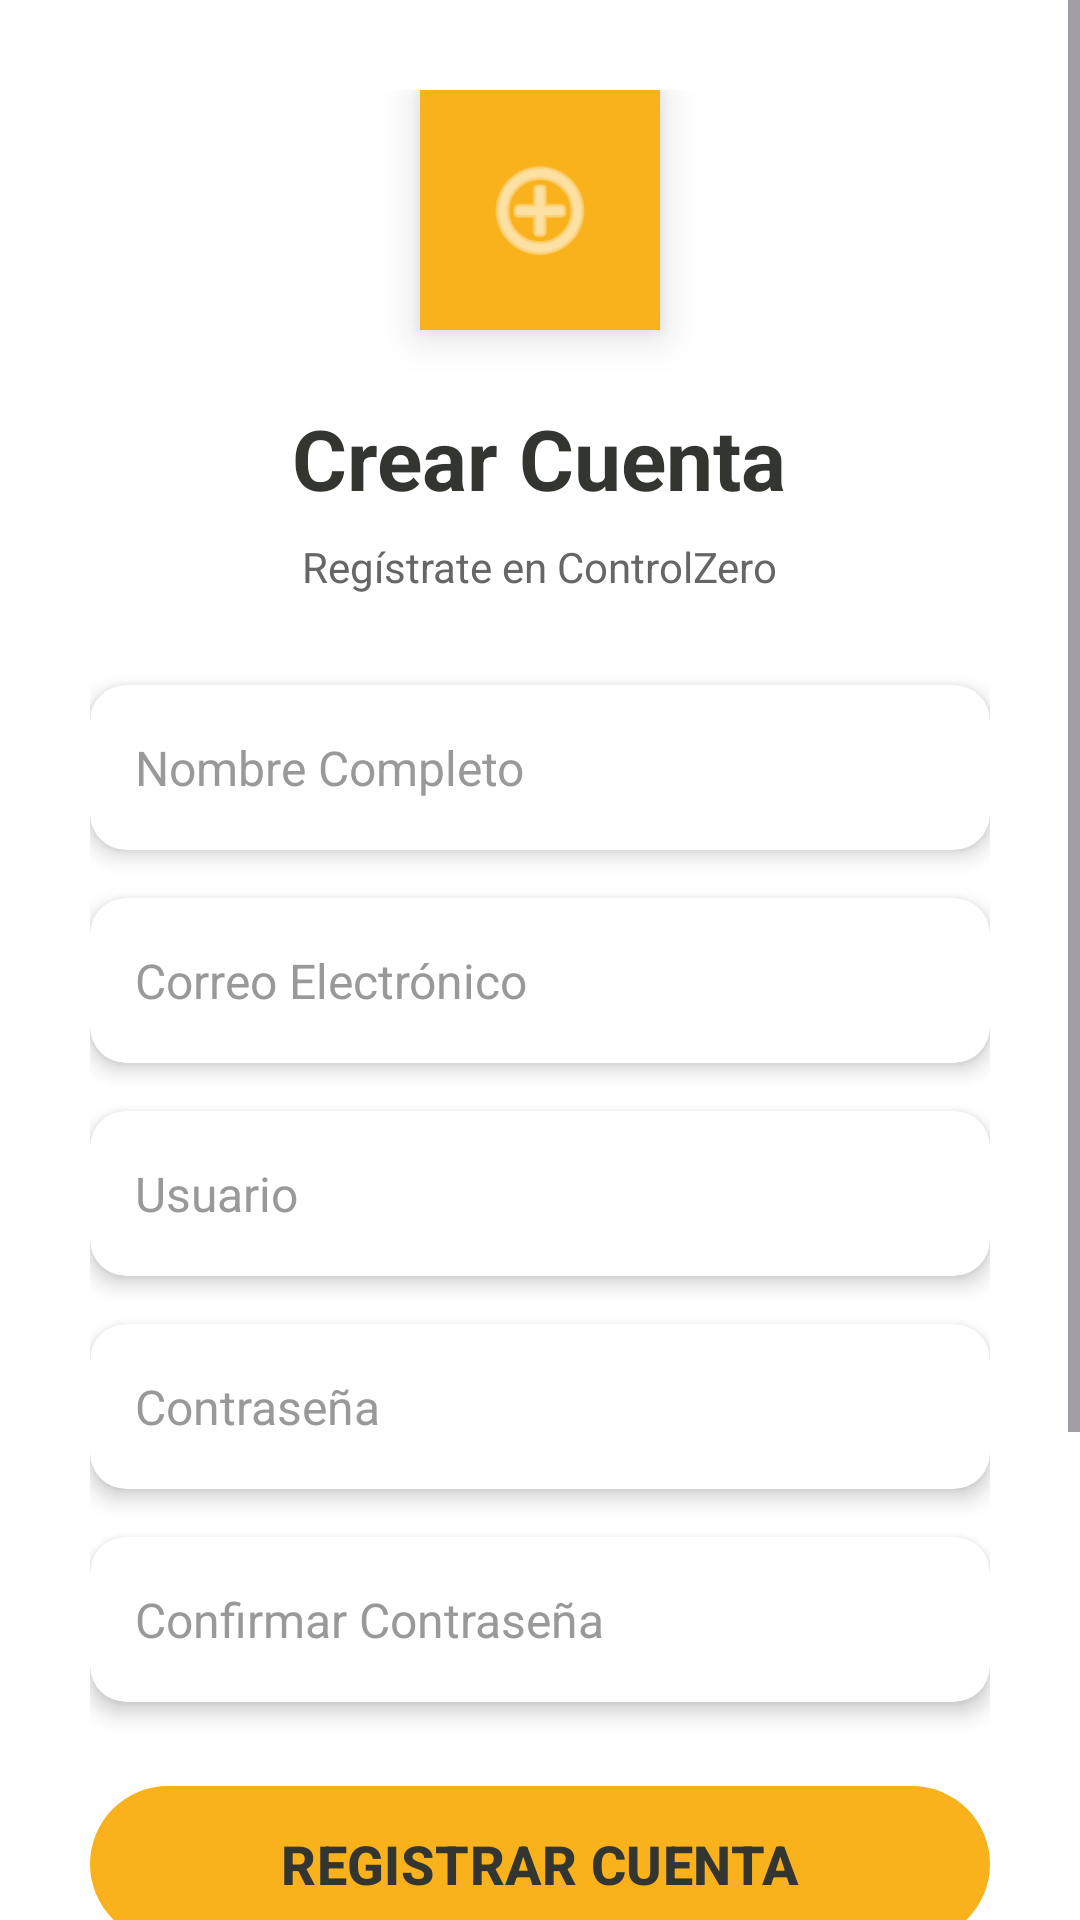

Named icons in this screenshot (1080 x 1920) and their bounding boxes, box=[x1, y1, x2, y2]:
add: box=[495, 166, 585, 255]
